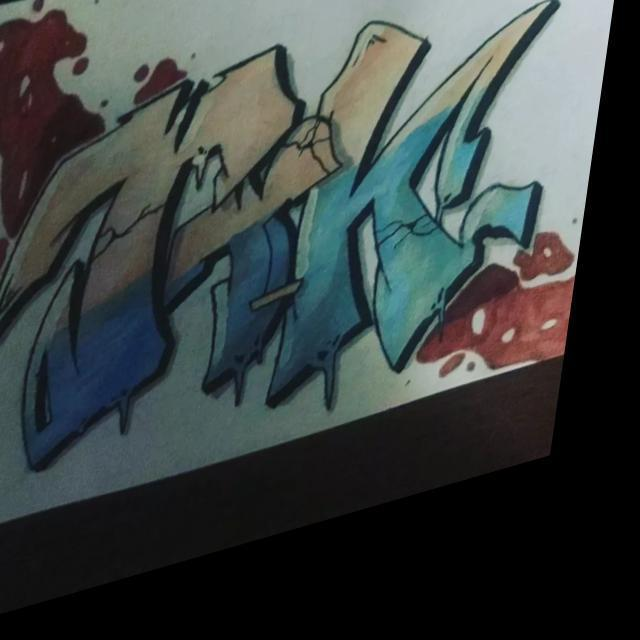-: (0, 0, 622, 532)
